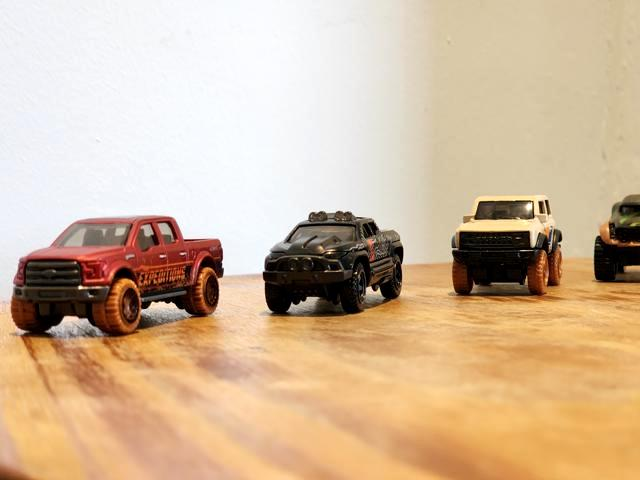toy-car: (10, 214, 225, 336), (262, 210, 404, 313), (451, 195, 563, 295), (594, 193, 640, 280)
